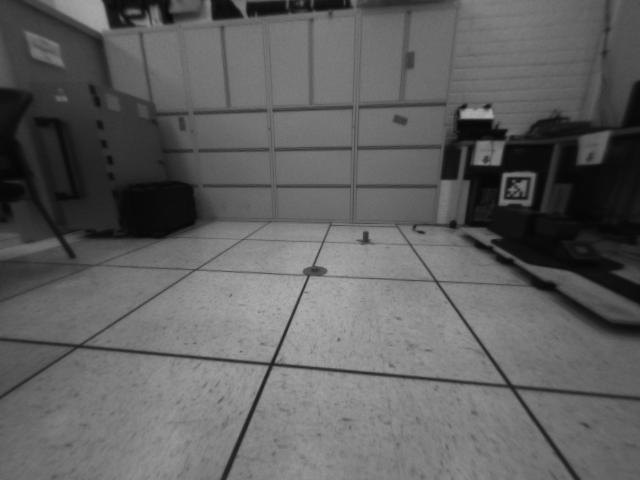X: (355, 229, 377, 246)
